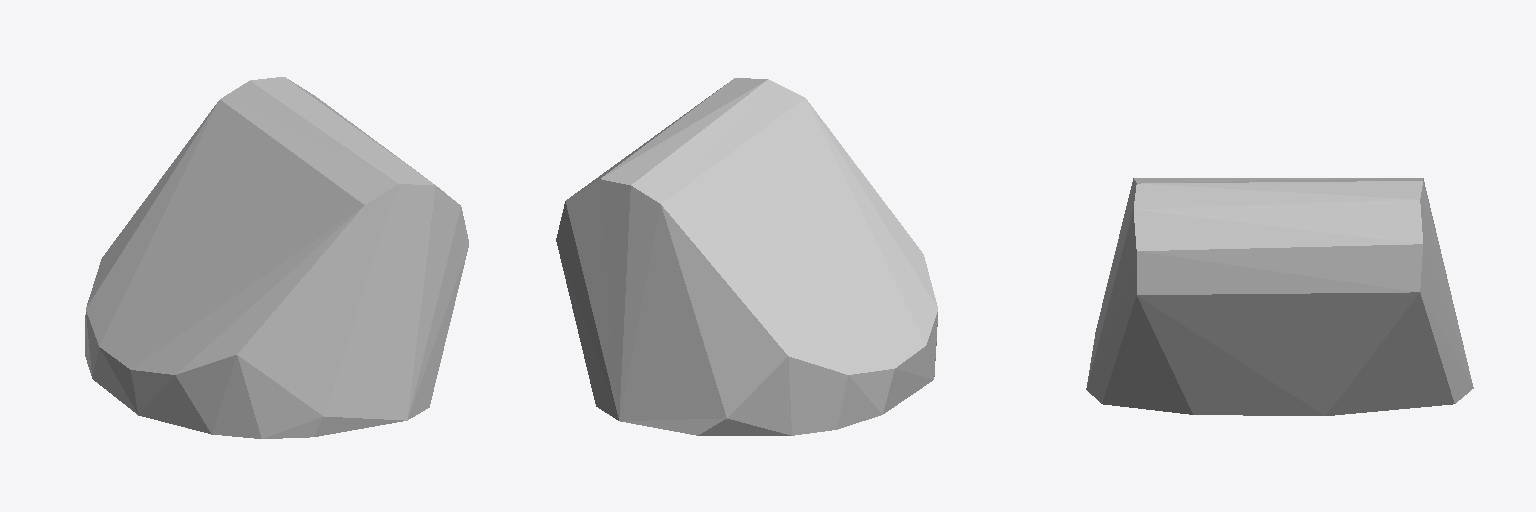
File: head_pan_collision.obj
3 renders of one model, left to right at view 1: azimuth 30°, elevation 25°; view 2: azimuth 150°, elevation 25°; view 3: azimuth 270°, elevation 25°, orthographic.
Size of the model in its own units: 0.104 by 0.075 by 0.123.